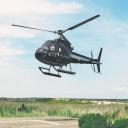helicopter: (12, 16, 105, 78)
